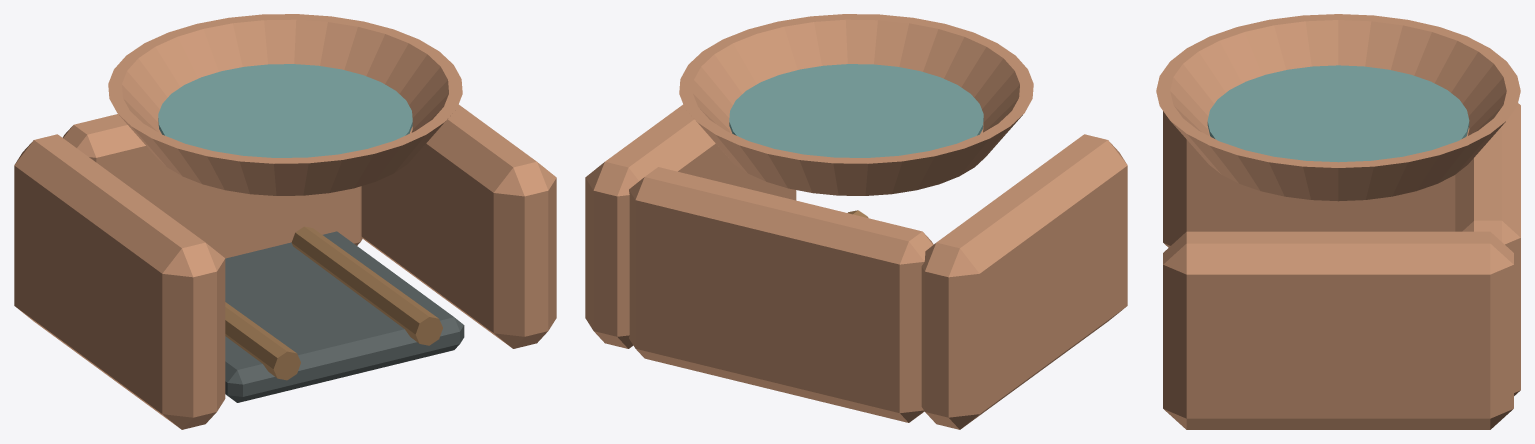
The picture shows the model from 3 angles, left to right: view 1: azimuth 30°, elevation 25°; view 2: azimuth 150°, elevation 25°; view 3: azimuth 270°, elevation 25°; orthographic projection. The views are drawn at different scales.
Visible parts, largest first — view 1: CE-023 Salt-boiling hearth and shallow vessel batched; view 2: CE-023 Salt-boiling hearth and shallow vessel batched; view 3: CE-023 Salt-boiling hearth and shallow vessel batched.
Boxes of the visible parts, x1,y1,x2,y2 form: CE-023 Salt-boiling hearth and shallow vessel batched: (14,14,556,429); CE-023 Salt-boiling hearth and shallow vessel batched: (585,14,1127,429); CE-023 Salt-boiling hearth and shallow vessel batched: (1156,14,1520,429).
Bounding box in the file's own units: 1 × 0.59 × 0.78.
